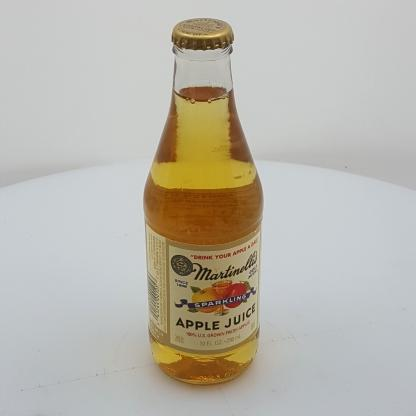------------------296ML: (143, 18, 264, 386)
